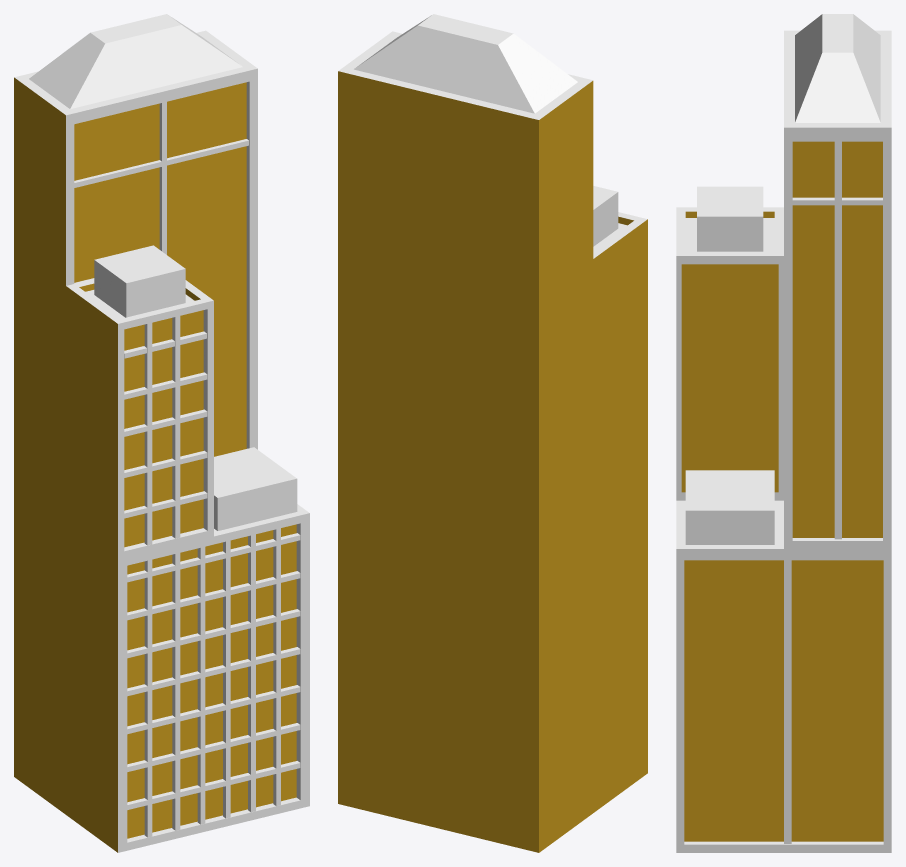
The model's file is Building_26_Yellow (1).glb.
3 renders of one model, left to right at view 1: azimuth 30°, elevation 25°; view 2: azimuth 150°, elevation 25°; view 3: azimuth 270°, elevation 25°, orthographic. The views are drawn at different scales.
Visible parts, largest first — view 1: pasted__pCube30; view 2: pasted__pCube30; view 3: pasted__pCube30.
Part boxes in pixels (x1,y1,x2,y2): pasted__pCube30: (14, 14, 309, 852); pasted__pCube30: (338, 14, 647, 852); pasted__pCube30: (676, 14, 891, 852).
Size of the model in its own units: 3842 by 14235 by 3603.
